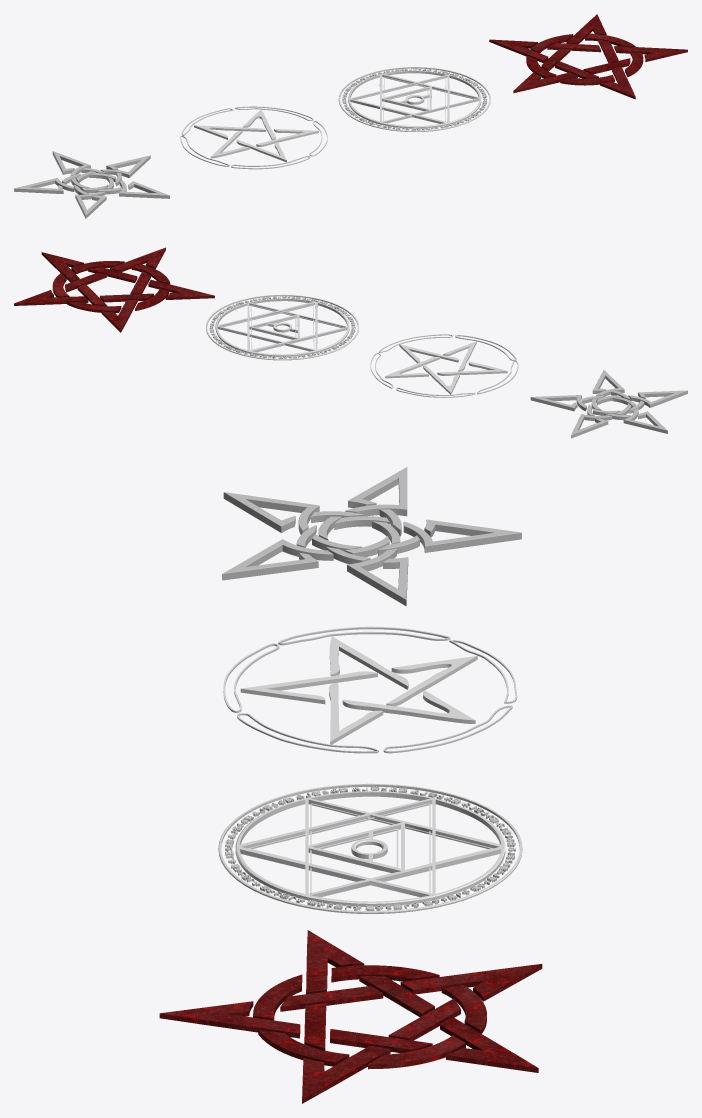
File: pentagram.fbx
The picture shows the model from 3 angles, top to bottom: view 1: azimuth 30°, elevation 25°; view 2: azimuth 150°, elevation 25°; view 3: azimuth 270°, elevation 25°; orthographic projection. The views are drawn at different scales.
Parts seen in each view (by area): view 1: pent_4, pent_3, pent_1, pent_2; view 2: pent_4, pent_3, pent_1, pent_2; view 3: pent_4, pent_3, pent_1, pent_2.
Boxes of the visible parts, box(x1,y1,x2,y2) form: pent_4: box(489, 14, 687, 99); pent_3: box(338, 67, 490, 131); pent_1: box(14, 151, 169, 218); pent_2: box(180, 106, 327, 169); pent_4: box(14, 247, 214, 332); pent_3: box(206, 294, 358, 360); pent_1: box(530, 370, 687, 438); pent_2: box(370, 334, 518, 397); pent_4: box(159, 930, 542, 1103); pent_3: box(218, 783, 522, 913); pent_1: box(222, 467, 521, 605); pent_2: box(223, 626, 517, 753).
Size of the model in its own units: 3730 by 29.56 by 954.
